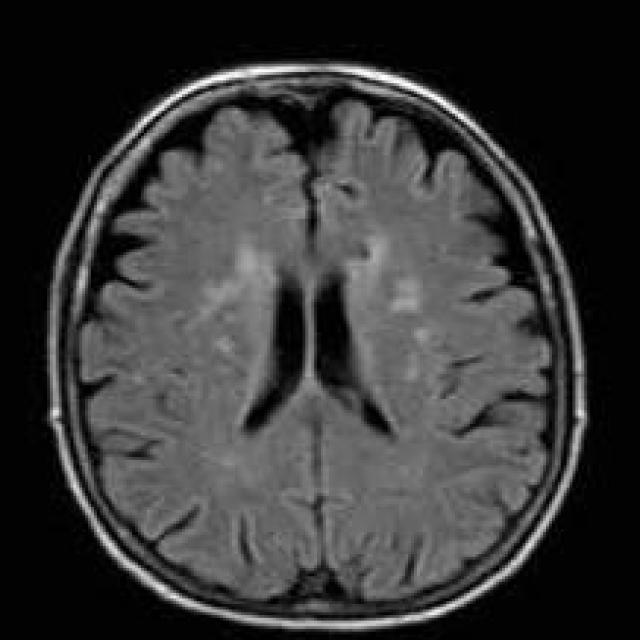notumor: (47, 64, 587, 634)
